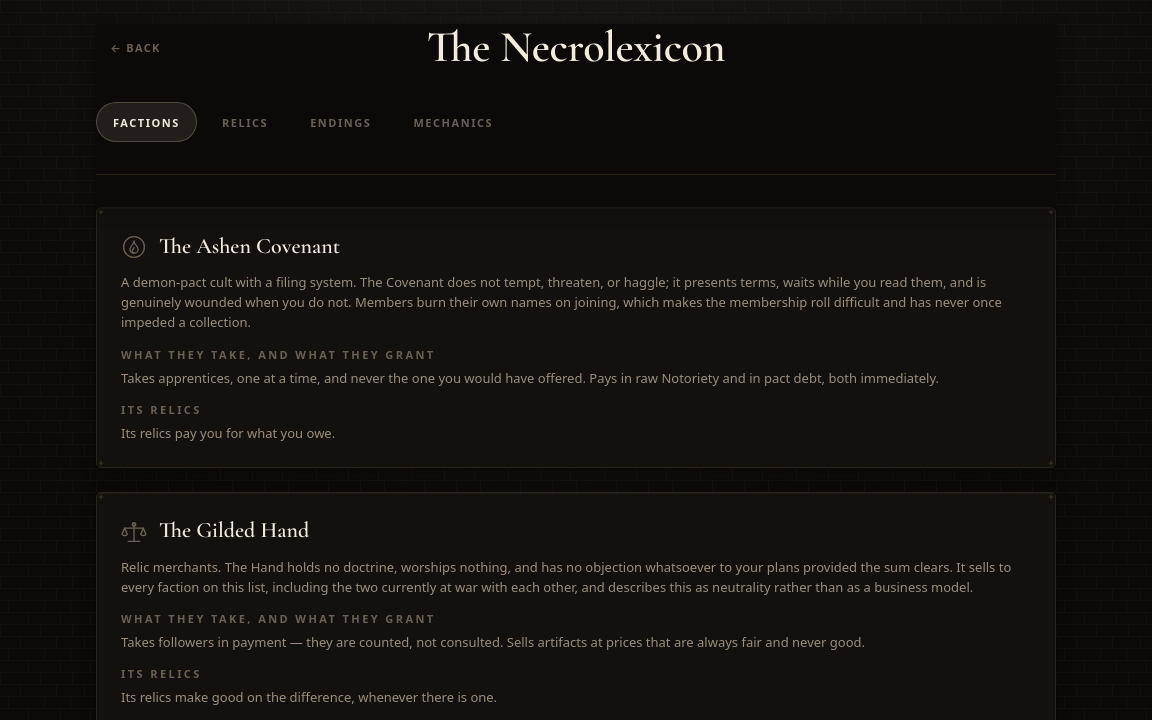
Test case: NecrolexiconScreen · mechanics › explains every mechanic entry without requiring discovery
What coordinates should you click on to do the following:
click the tab "Mechanics"
I would click on:
 (453, 122)
Its box is 396,102 -> 510,142.
(page scrolled)
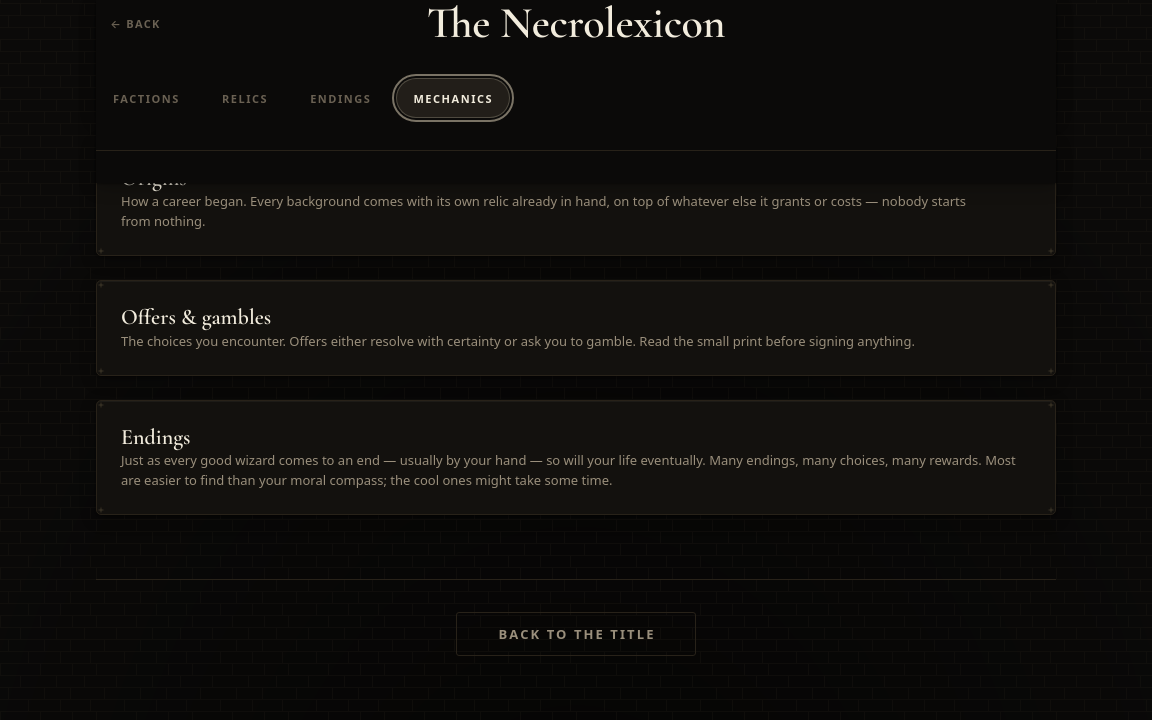
Expected: the heading "Double-edged relics" is shown, 121,25 -> 292,51
Expected: the text "A few relics cut both ways. You will never find one by chance — they are always offered by name, and the card shows what" is shown, 121,52 -> 1004,90
Expected: the heading "Origins" is shown, 121,165 -> 187,191
